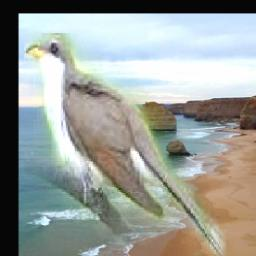Cuckoo: (24, 33, 226, 256)
